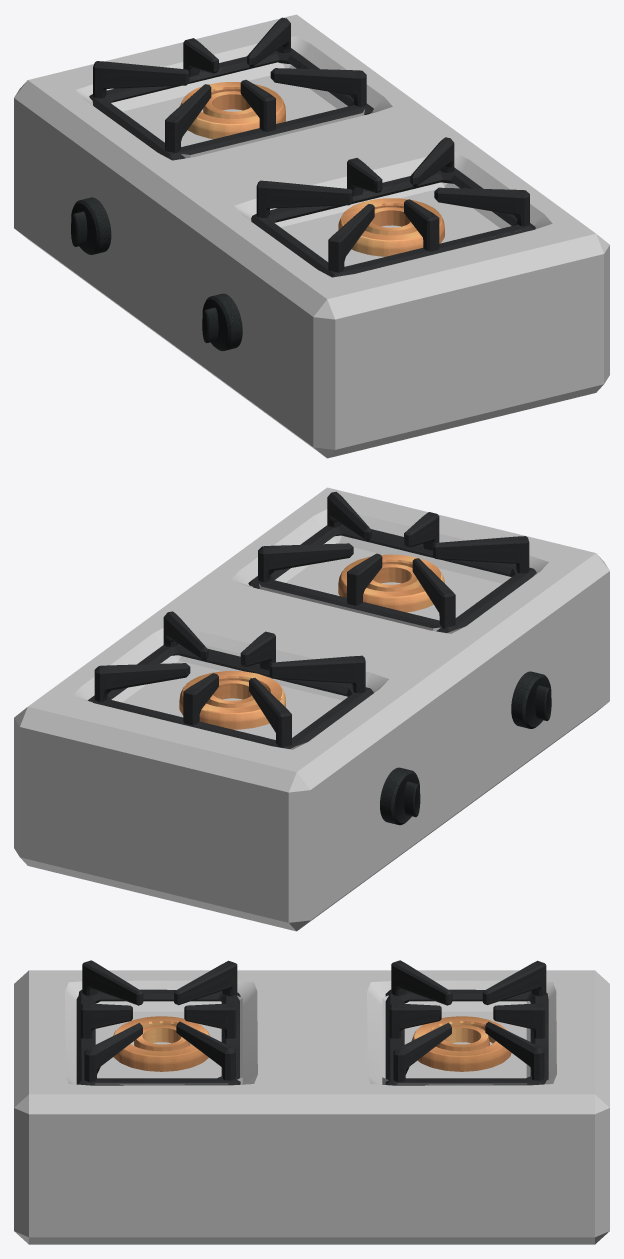
The model's file is freuvok.fbx.
3 views of the same model, one above another, from view 1: azimuth 30°, elevation 25°; view 2: azimuth 150°, elevation 25°; view 3: azimuth 270°, elevation 25° (orthographic). The views are drawn at different scales.
Parts seen in each view (by area): view 1: TEMPORARY_IMPORT_NAMESPACE__灺_爐1:SubjectSh, TEMPORARY_IMPORT_NAMESPACE__灺_爐1:pasted__pasted__pCubeSh (×5), TEMPORARY_IMPORT_NAMESPACE__灺_爐1:pCube2Sh, TEMPORARY_IMPORT_NAMESPACE__灺_爐1:pasted__pCube2Sh, TEMPORARY_IMPORT_NAMESPACE__灺_爐1:pasted__pasted__pasted__pCu (×3), TEMPORARY_IMPORT_NAMESPACE__灺_爐1:pasted__pCubeSh (×3), TEMPORARY_IMPORT_NAMESPACE__灺_爐1:pasted__pCylinder3Sh, TEMPORARY_IMPORT_NAMESPACE__灺_爐1:pCylinder2Sh, TEMPORARY_IMPORT_NAMESPACE__灺_爐1:pasted__pasted__pCylinder5S, TEMPORARY_IMPORT_NAMESPACE__灺_爐1:pasted__pCylinder5Sh, TEMPORARY_IMPORT_NAMESPACE__灺_爐1:pCubeSh, TEMPORARY_IMPORT_NAMESPACE__灺_爐1:pasted__pCylinder2Sh (+1 smaller); view 2: TEMPORARY_IMPORT_NAMESPACE__灺_爐1:SubjectSh, TEMPORARY_IMPORT_NAMESPACE__灺_爐1:pasted__pasted__pCubeSh (×5), TEMPORARY_IMPORT_NAMESPACE__灺_爐1:pasted__pasted__pasted__pCu (×3), TEMPORARY_IMPORT_NAMESPACE__灺_爐1:pasted__pCube2Sh, TEMPORARY_IMPORT_NAMESPACE__灺_爐1:pCube2Sh, TEMPORARY_IMPORT_NAMESPACE__灺_爐1:pasted__pCubeSh (×3), TEMPORARY_IMPORT_NAMESPACE__灺_爐1:pCylinder2Sh, TEMPORARY_IMPORT_NAMESPACE__灺_爐1:pasted__pCylinder3Sh, TEMPORARY_IMPORT_NAMESPACE__灺_爐1:pasted__pasted__pCylinder5S, TEMPORARY_IMPORT_NAMESPACE__灺_爐1:pasted__pCylinder5Sh, TEMPORARY_IMPORT_NAMESPACE__灺_爐1:pasted__pasted__pCylinder2S, TEMPORARY_IMPORT_NAMESPACE__灺_爐1:pasted__pCylinder2Sh (+1 smaller); view 3: TEMPORARY_IMPORT_NAMESPACE__灺_爐1:SubjectSh, TEMPORARY_IMPORT_NAMESPACE__灺_爐1:pasted__pasted__pCubeSh (×5), TEMPORARY_IMPORT_NAMESPACE__灺_爐1:pasted__pasted__pasted__pCu (×3), TEMPORARY_IMPORT_NAMESPACE__灺_爐1:pasted__pCubeSh (×3), TEMPORARY_IMPORT_NAMESPACE__灺_爐1:pasted__pCube2Sh, TEMPORARY_IMPORT_NAMESPACE__灺_爐1:pCube2Sh, TEMPORARY_IMPORT_NAMESPACE__灺_爐1:pCylinder2Sh, TEMPORARY_IMPORT_NAMESPACE__灺_爐1:pasted__pCylinder3Sh, TEMPORARY_IMPORT_NAMESPACE__灺_爐1:pCubeSh, TEMPORARY_IMPORT_NAMESPACE__灺_爐1:pasted__pasted__pCylinder2S, TEMPORARY_IMPORT_NAMESPACE__灺_爐1:pasted__pCylinder2Sh.
Part boxes in pixels (x1,y1,x2,y2): TEMPORARY_IMPORT_NAMESPACE__灺_爐1:SubjectSh: (14, 14, 609, 458); TEMPORARY_IMPORT_NAMESPACE__灺_爐1:pasted__pasted__pCubeSh (×5): (93, 17, 382, 272); TEMPORARY_IMPORT_NAMESPACE__灺_爐1:pCube2Sh: (89, 48, 373, 160); TEMPORARY_IMPORT_NAMESPACE__灺_爐1:pasted__pCube2Sh: (251, 167, 535, 277); TEMPORARY_IMPORT_NAMESPACE__灺_爐1:pasted__pasted__pasted__pCu (×3): (165, 84, 529, 226); TEMPORARY_IMPORT_NAMESPACE__灺_爐1:pasted__pCubeSh (×3): (183, 38, 352, 217); TEMPORARY_IMPORT_NAMESPACE__灺_爐1:pasted__pCylinder3Sh: (338, 198, 444, 256); TEMPORARY_IMPORT_NAMESPACE__灺_爐1:pCylinder2Sh: (180, 82, 285, 139); TEMPORARY_IMPORT_NAMESPACE__灺_爐1:pasted__pasted__pCylinder5S: (202, 293, 242, 351); TEMPORARY_IMPORT_NAMESPACE__灺_爐1:pasted__pCylinder5Sh: (71, 197, 111, 254); TEMPORARY_IMPORT_NAMESPACE__灺_爐1:pCubeSh: (404, 199, 439, 251); TEMPORARY_IMPORT_NAMESPACE__灺_爐1:pasted__pCylinder2Sh: (203, 91, 256, 118); TEMPORARY_IMPORT_NAMESPACE__灺_爐1:SubjectSh: (14, 487, 609, 931); TEMPORARY_IMPORT_NAMESPACE__灺_爐1:pasted__pasted__pCubeSh (×5): (94, 536, 529, 747); TEMPORARY_IMPORT_NAMESPACE__灺_爐1:pasted__pasted__pasted__pCu (×3): (258, 491, 371, 692); TEMPORARY_IMPORT_NAMESPACE__灺_爐1:pasted__pCube2Sh: (248, 524, 536, 632); TEMPORARY_IMPORT_NAMESPACE__灺_爐1:pCube2Sh: (88, 644, 373, 749); TEMPORARY_IMPORT_NAMESPACE__灺_爐1:pasted__pCubeSh (×3): (183, 558, 455, 725); TEMPORARY_IMPORT_NAMESPACE__灺_爐1:pCylinder2Sh: (179, 671, 285, 729); TEMPORARY_IMPORT_NAMESPACE__灺_爐1:pasted__pCylinder3Sh: (338, 554, 444, 612); TEMPORARY_IMPORT_NAMESPACE__灺_爐1:pasted__pasted__pCylinder5S: (511, 671, 551, 728); TEMPORARY_IMPORT_NAMESPACE__灺_爐1:pasted__pCylinder5Sh: (380, 767, 420, 825); TEMPORARY_IMPORT_NAMESPACE__灺_爐1:pasted__pasted__pCylinder2S: (366, 564, 420, 591); TEMPORARY_IMPORT_NAMESPACE__灺_爐1:pasted__pCylinder2Sh: (206, 680, 257, 707); TEMPORARY_IMPORT_NAMESPACE__灺_爐1:SubjectSh: (14, 970, 609, 1244); TEMPORARY_IMPORT_NAMESPACE__灺_爐1:pasted__pasted__pCubeSh (×5): (82, 960, 546, 1082); TEMPORARY_IMPORT_NAMESPACE__灺_爐1:pasted__pasted__pasted__pCu (×3): (84, 960, 452, 1082); TEMPORARY_IMPORT_NAMESPACE__灺_爐1:pasted__pCubeSh (×3): (174, 960, 545, 1038); TEMPORARY_IMPORT_NAMESPACE__灺_爐1:pasted__pCube2Sh: (76, 989, 240, 1085); TEMPORARY_IMPORT_NAMESPACE__灺_爐1:pCube2Sh: (385, 989, 548, 1085); TEMPORARY_IMPORT_NAMESPACE__灺_爐1:pCylinder2Sh: (411, 1016, 511, 1071); TEMPORARY_IMPORT_NAMESPACE__灺_爐1:pasted__pCylinder3Sh: (113, 1016, 209, 1071); TEMPORARY_IMPORT_NAMESPACE__灺_爐1:pCubeSh: (80, 1003, 132, 1038); TEMPORARY_IMPORT_NAMESPACE__灺_爐1:pasted__pasted__pCylinder2S: (134, 1025, 190, 1051); TEMPORARY_IMPORT_NAMESPACE__灺_爐1:pasted__pCylinder2Sh: (436, 1025, 489, 1051).
Size of the model in its own units: 41.04 by 22.95 by 70.
